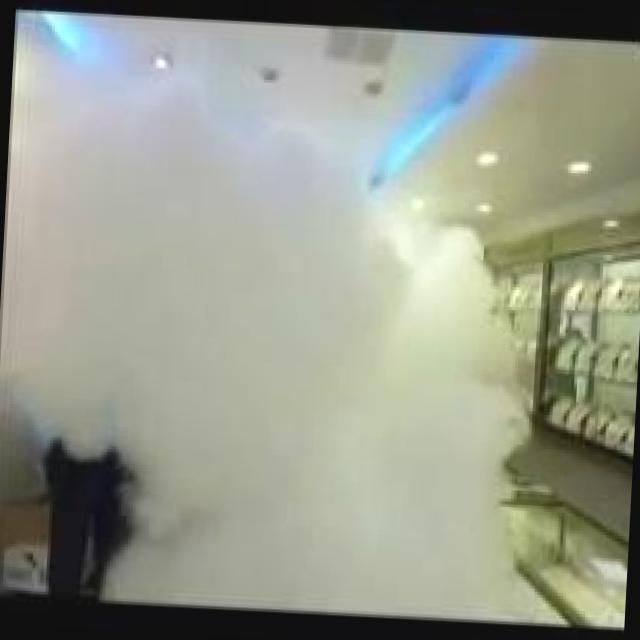smoke: (0, 23, 549, 640)
